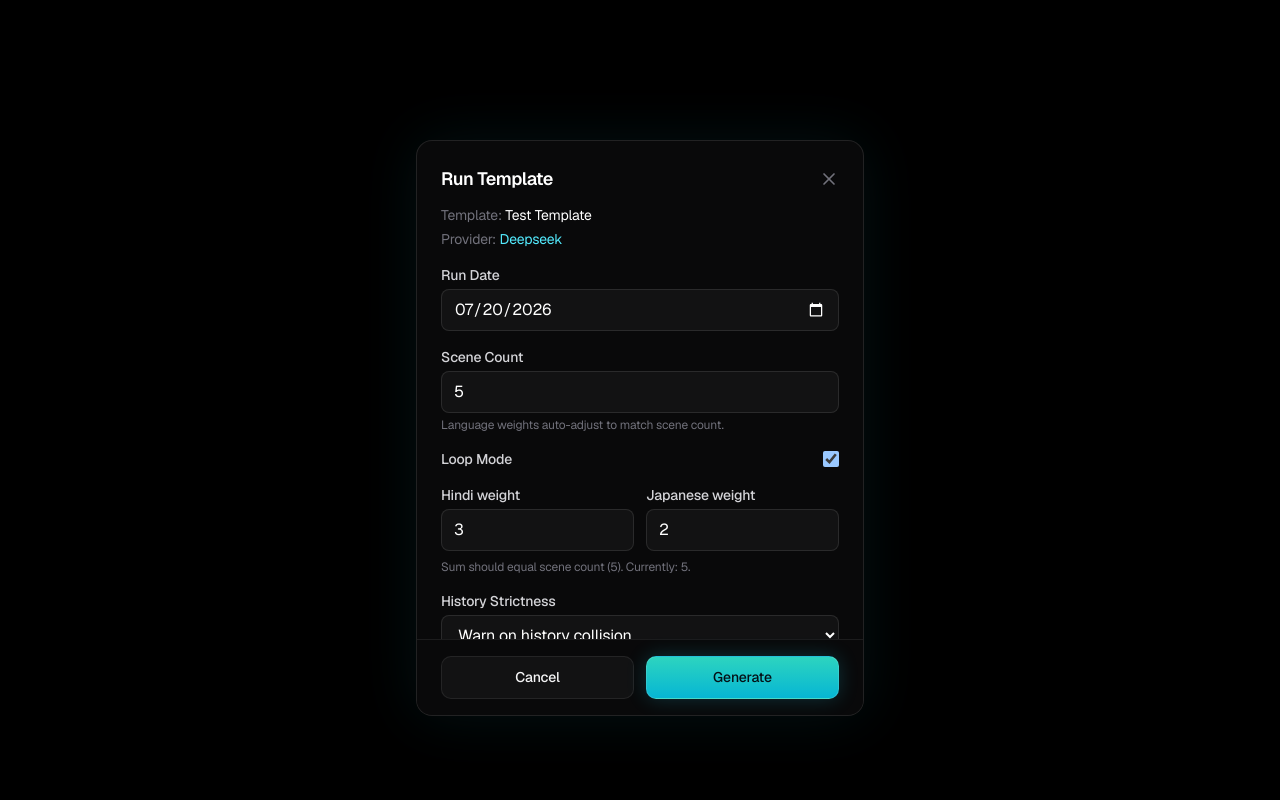
Test: RunModal › Form Validation › prevents scene count below 1
Replace the text in the number field labelled "Scene Count" with "0" at (640,392), box [441,371,839,413]
(page scrolled)
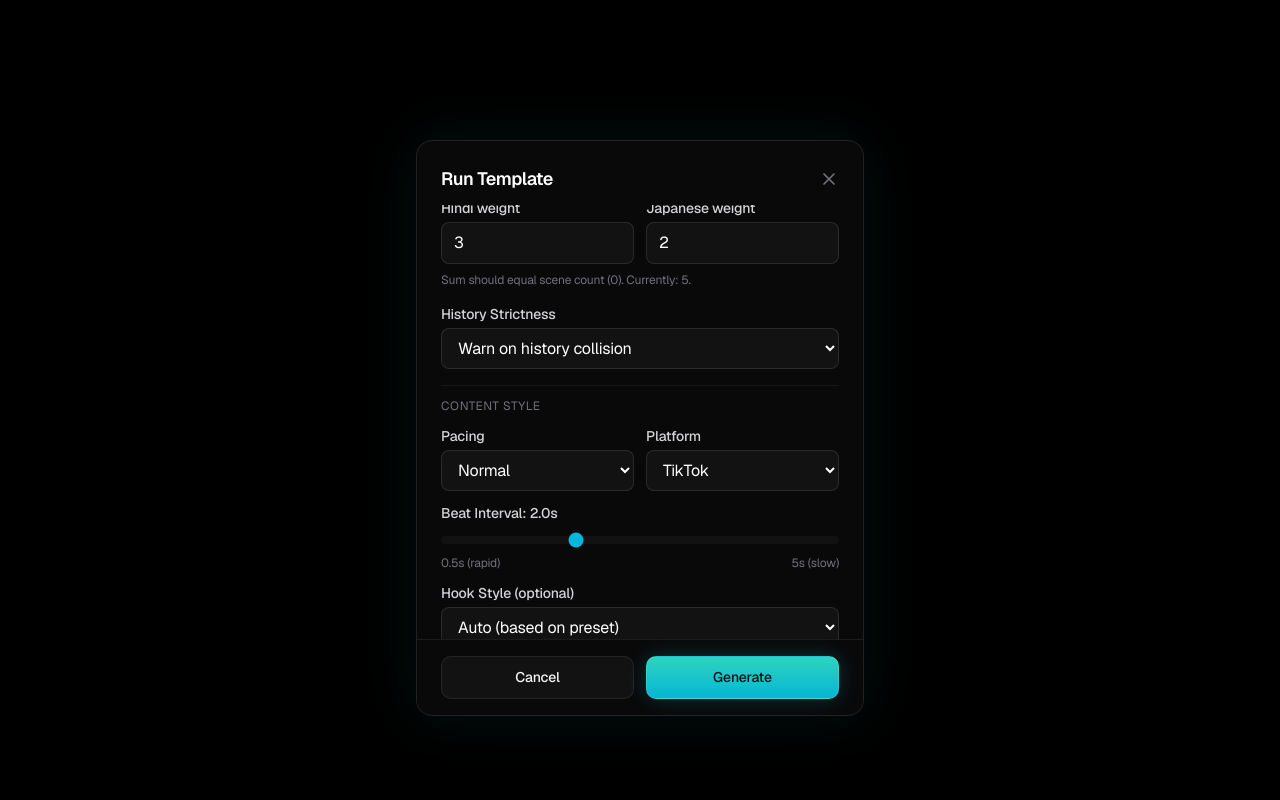
Submit the form labelled "Scene Count"
(page scrolled)
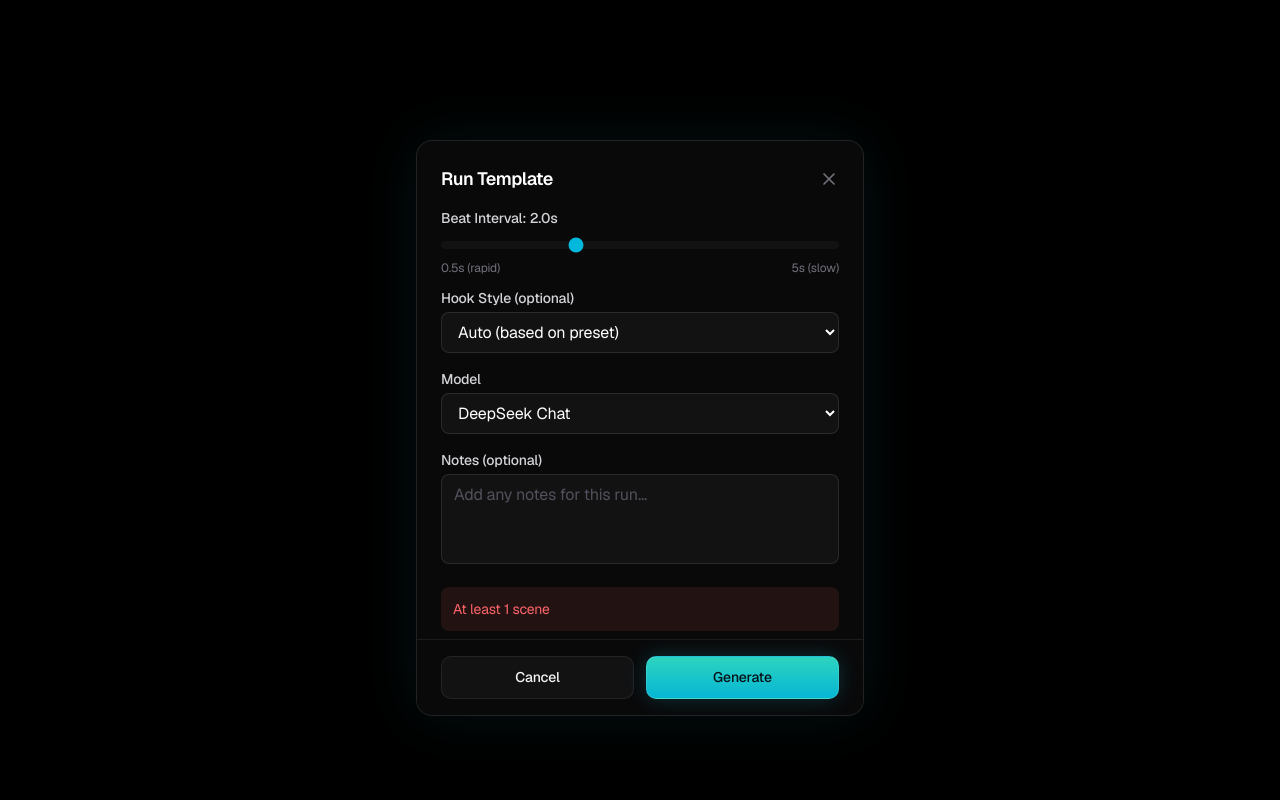
expect the text "At least 1 scene" is shown: met, box [441,587,839,631]
